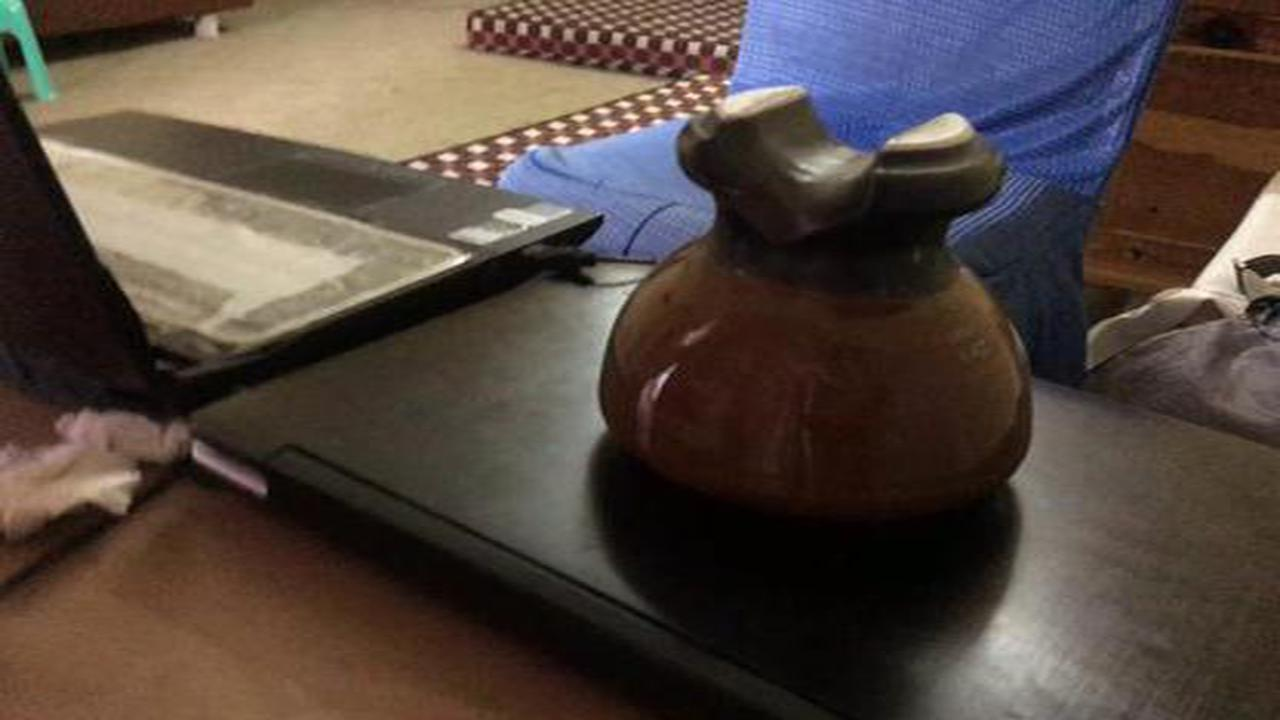insulator_pin: (585, 71, 1062, 530)
